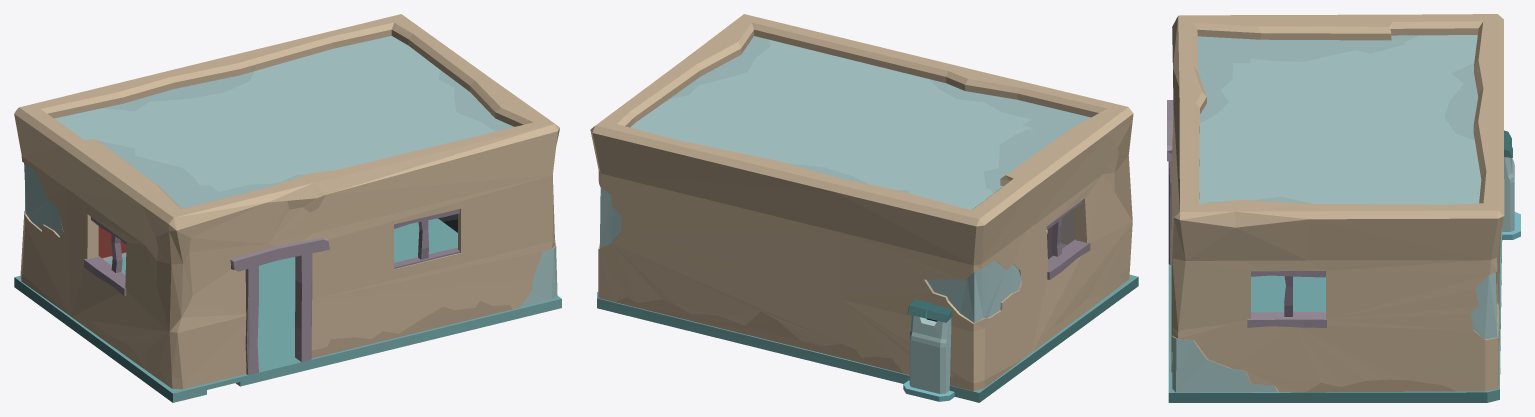
The model's file is House1.fbx.
The picture shows the model from 3 angles, left to right: view 1: azimuth 30°, elevation 25°; view 2: azimuth 150°, elevation 25°; view 3: azimuth 270°, elevation 25°; orthographic projection. The views are drawn at different scales.
Visible parts, largest first — view 1: SM_Bld_Village_06, pCube2, pCube3, pCube1; view 2: SM_Bld_Village_06, pCube2, polySurface2, pCube3, polySurface1; view 3: SM_Bld_Village_06, pCube2, pCube3, polySurface2.
Boxes of the visible parts, <box> form: SM_Bld_Village_06: <box>14,14,559,389</box>; pCube2: <box>14,218,561,398</box>; pCube3: <box>14,282,561,402</box>; pCube1: <box>98,214,458,261</box>; SM_Bld_Village_06: <box>590,14,1133,391</box>; pCube2: <box>597,274,1138,397</box>; polySurface2: <box>903,315,954,401</box>; pCube3: <box>597,281,1138,402</box>; polySurface1: <box>907,299,952,322</box>; SM_Bld_Village_06: <box>1167,14,1504,392</box>; pCube2: <box>1168,228,1502,397</box>; pCube3: <box>1168,373,1500,402</box>; polySurface2: <box>1502,157,1520,239</box>.
Bounding box in the file's own units: 0.0787 × 0.0345 × 0.0579.
Materials: 2 (2 with a texture image).
